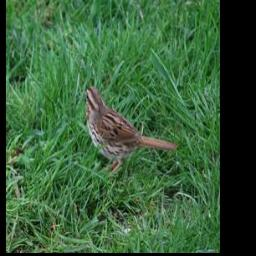Sparrow: (81, 81, 178, 176)
